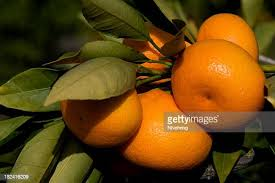orange: (120, 84, 215, 168), (172, 40, 262, 124), (58, 70, 143, 143), (196, 8, 261, 71)
